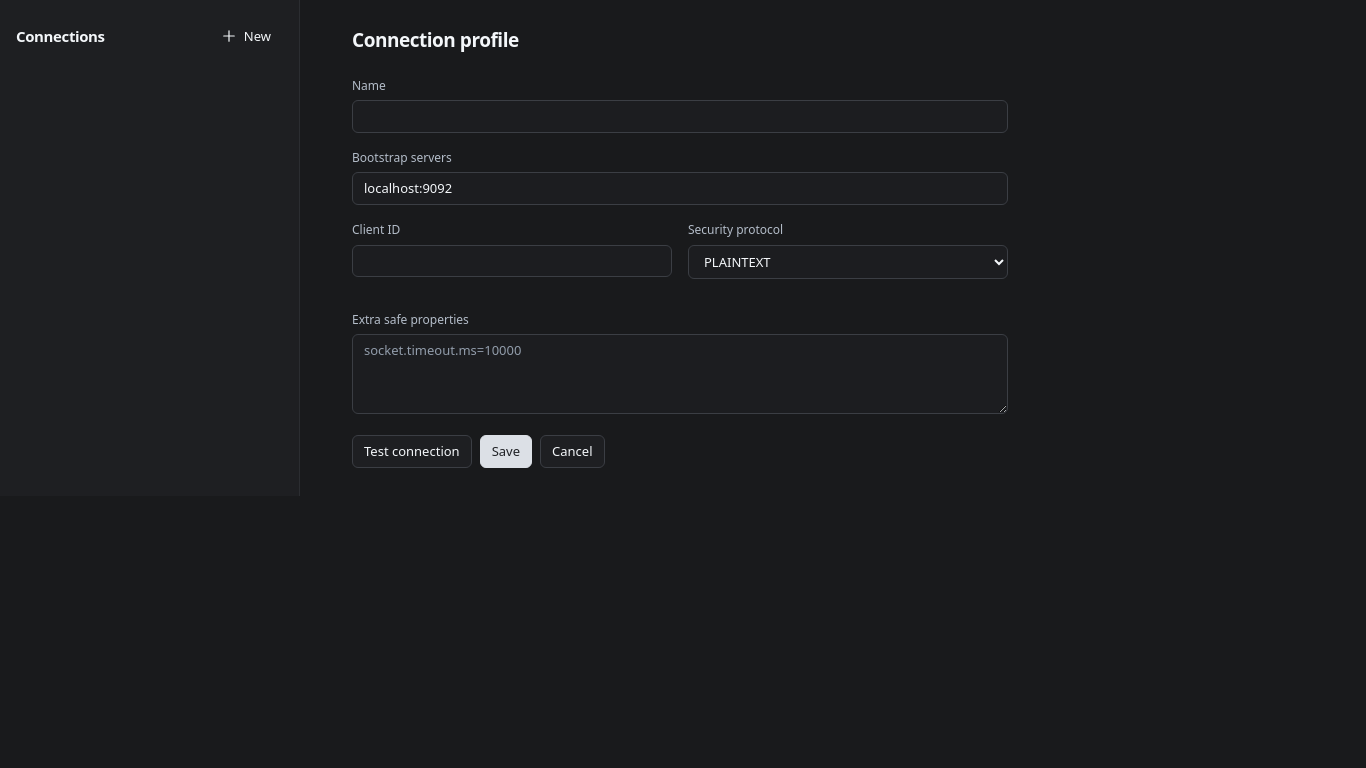
Connections › clears unsaved credentials when switching profiles
Step 1. Type "Unsaved" into the field labelled "Name" → (680,116), box 352,100 -> 1008,133
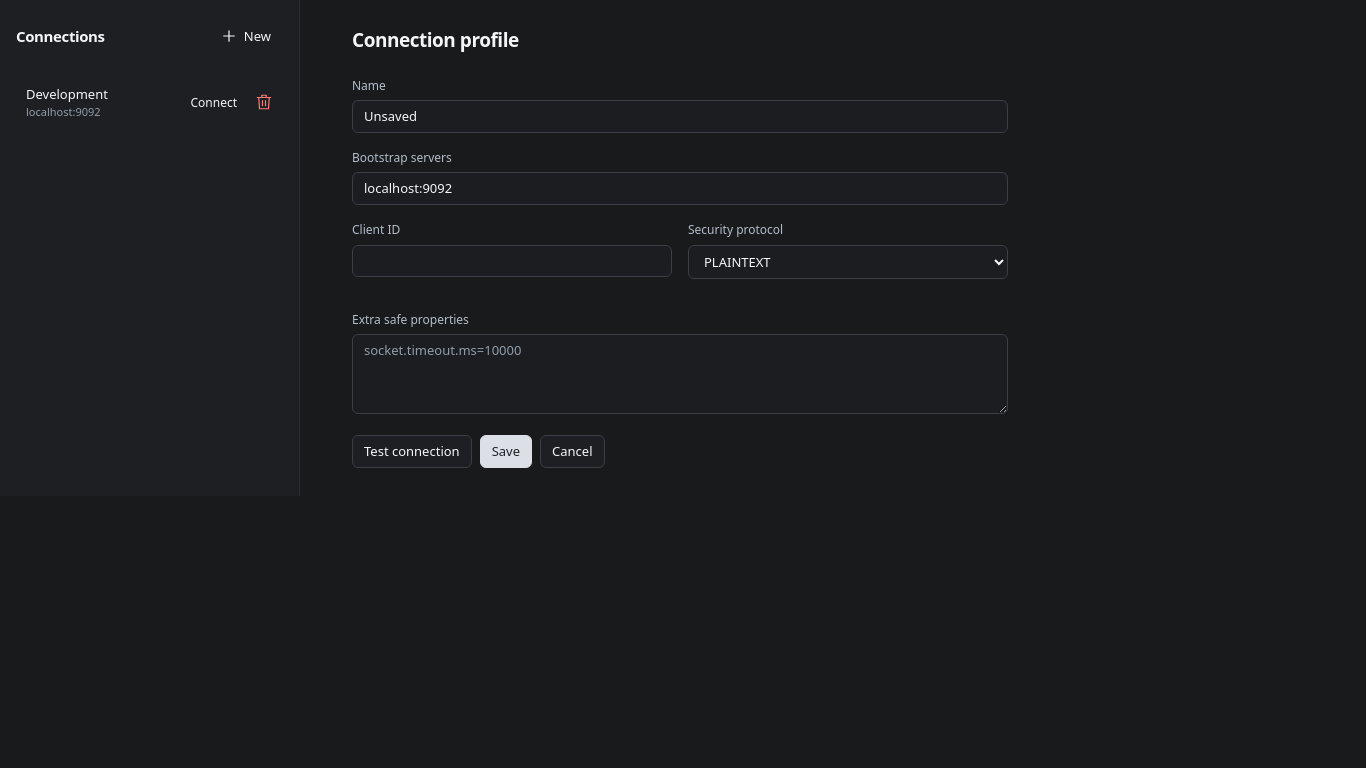
Step 2. Select "SASL_PLAINTEXT" in the dropdown labelled "Security protocol" → (848,262), box 688,244 -> 1008,278
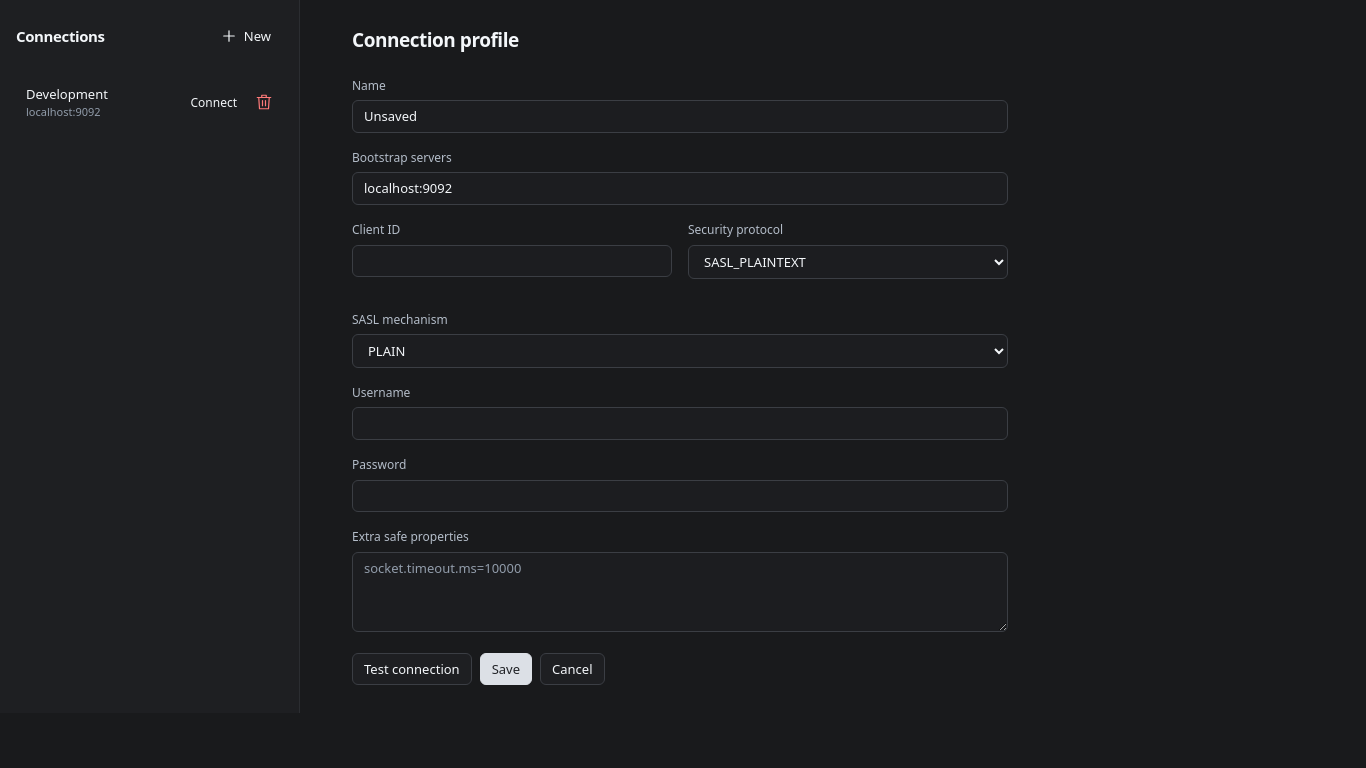
Step 3. Type "secret" into the password field labelled "Password" → (680,496), box 352,480 -> 1008,512
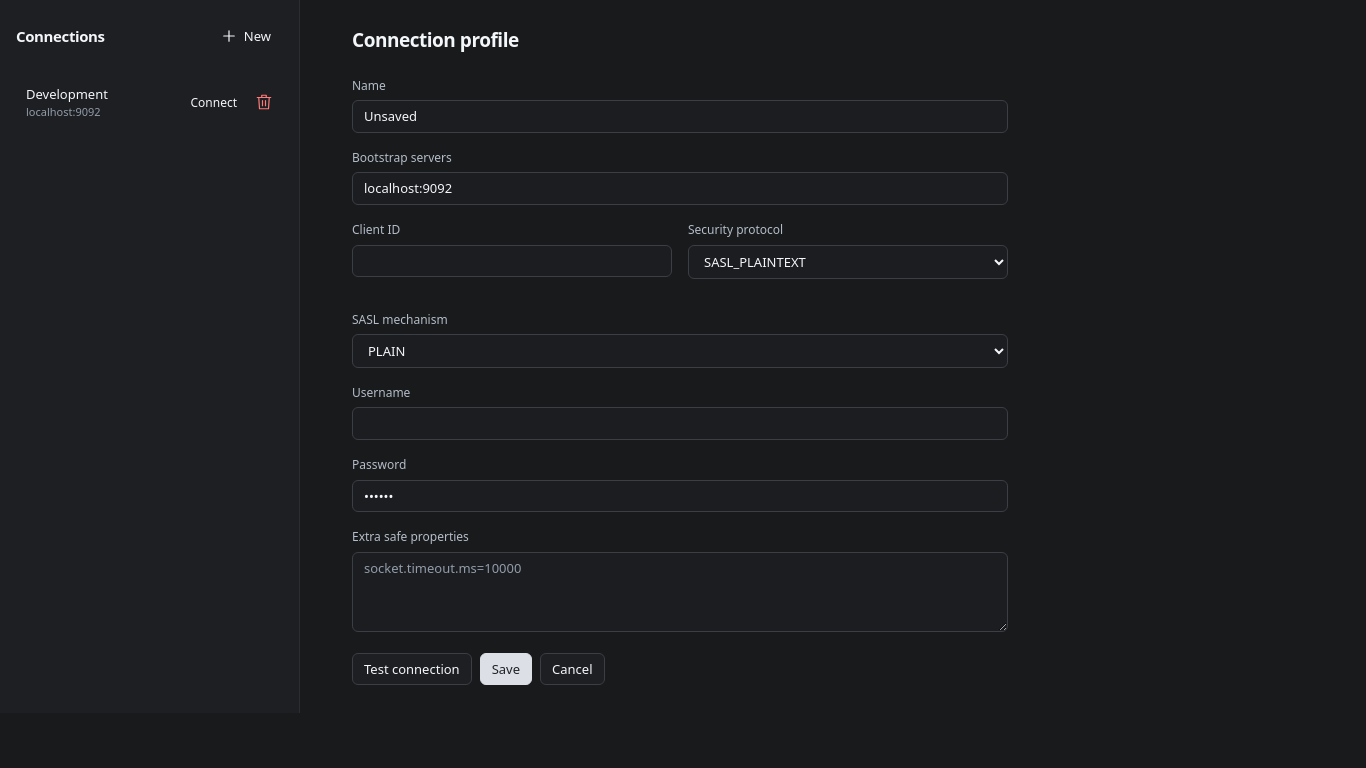
Step 4. Click the button "Development localhost:9092" → (99,102), box 19,80 -> 180,125
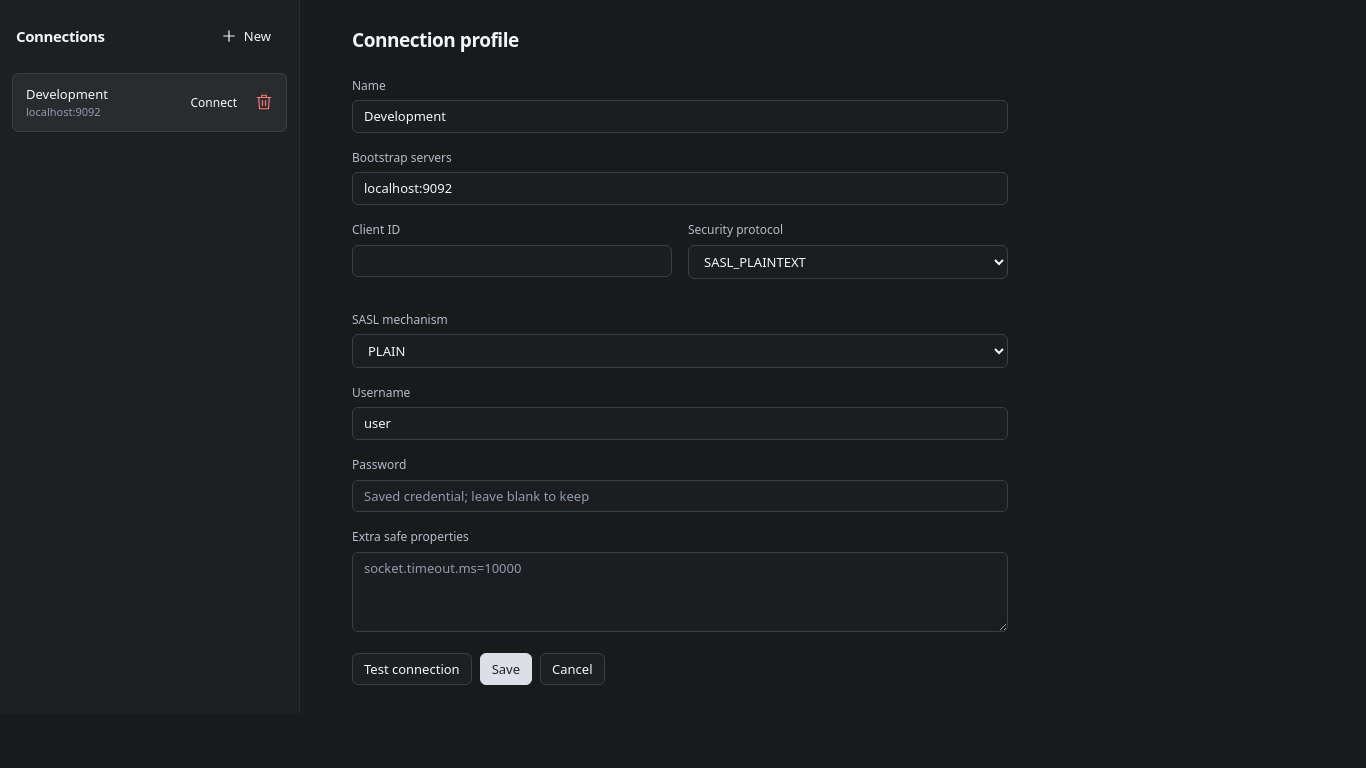
expect the field labelled "Name" holds "Development": met, box 352,100 -> 1008,133
expect the password field labelled "Password" is empty: met, box 352,480 -> 1008,512
